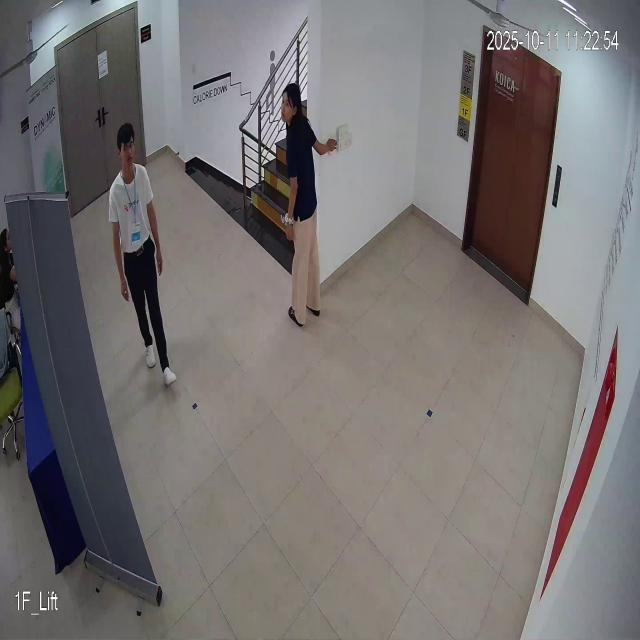face: (116, 116, 138, 178), (279, 78, 303, 127)
